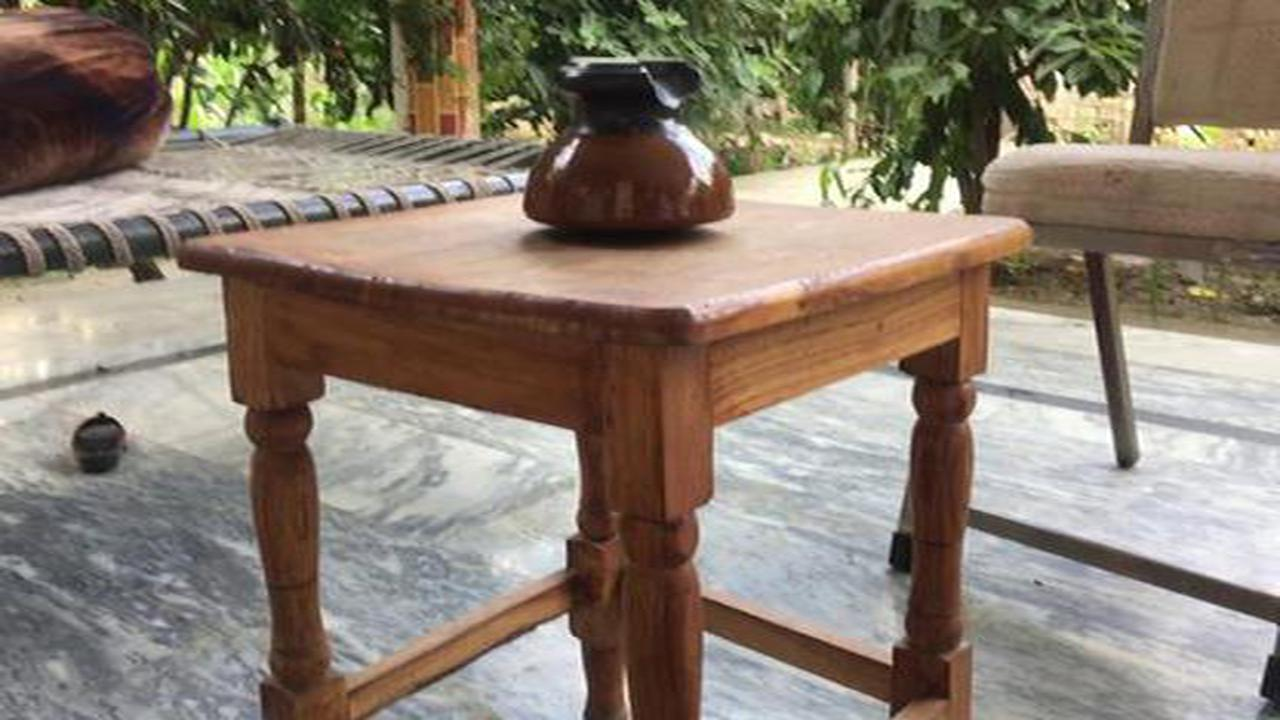insulator_pin: (499, 52, 748, 246)
